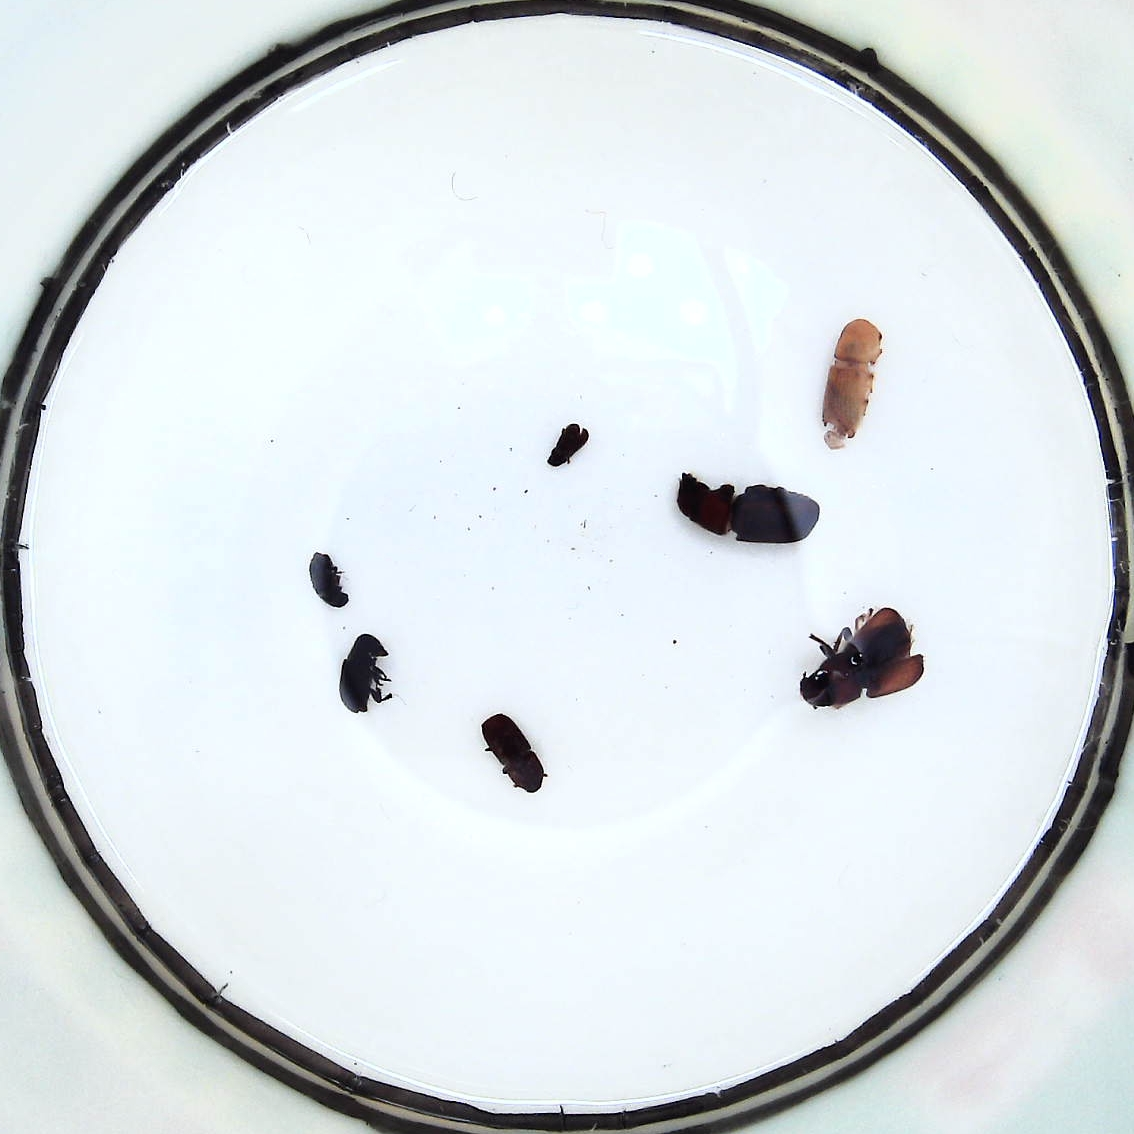Boerner: (822, 318, 879, 438)
Leconte: (801, 607, 924, 707), (678, 473, 820, 544)
acuminatus: (309, 552, 349, 607)
armandi: (339, 634, 389, 713)
coleoptera: (548, 424, 588, 468)
linnaeus: (481, 713, 543, 794)
